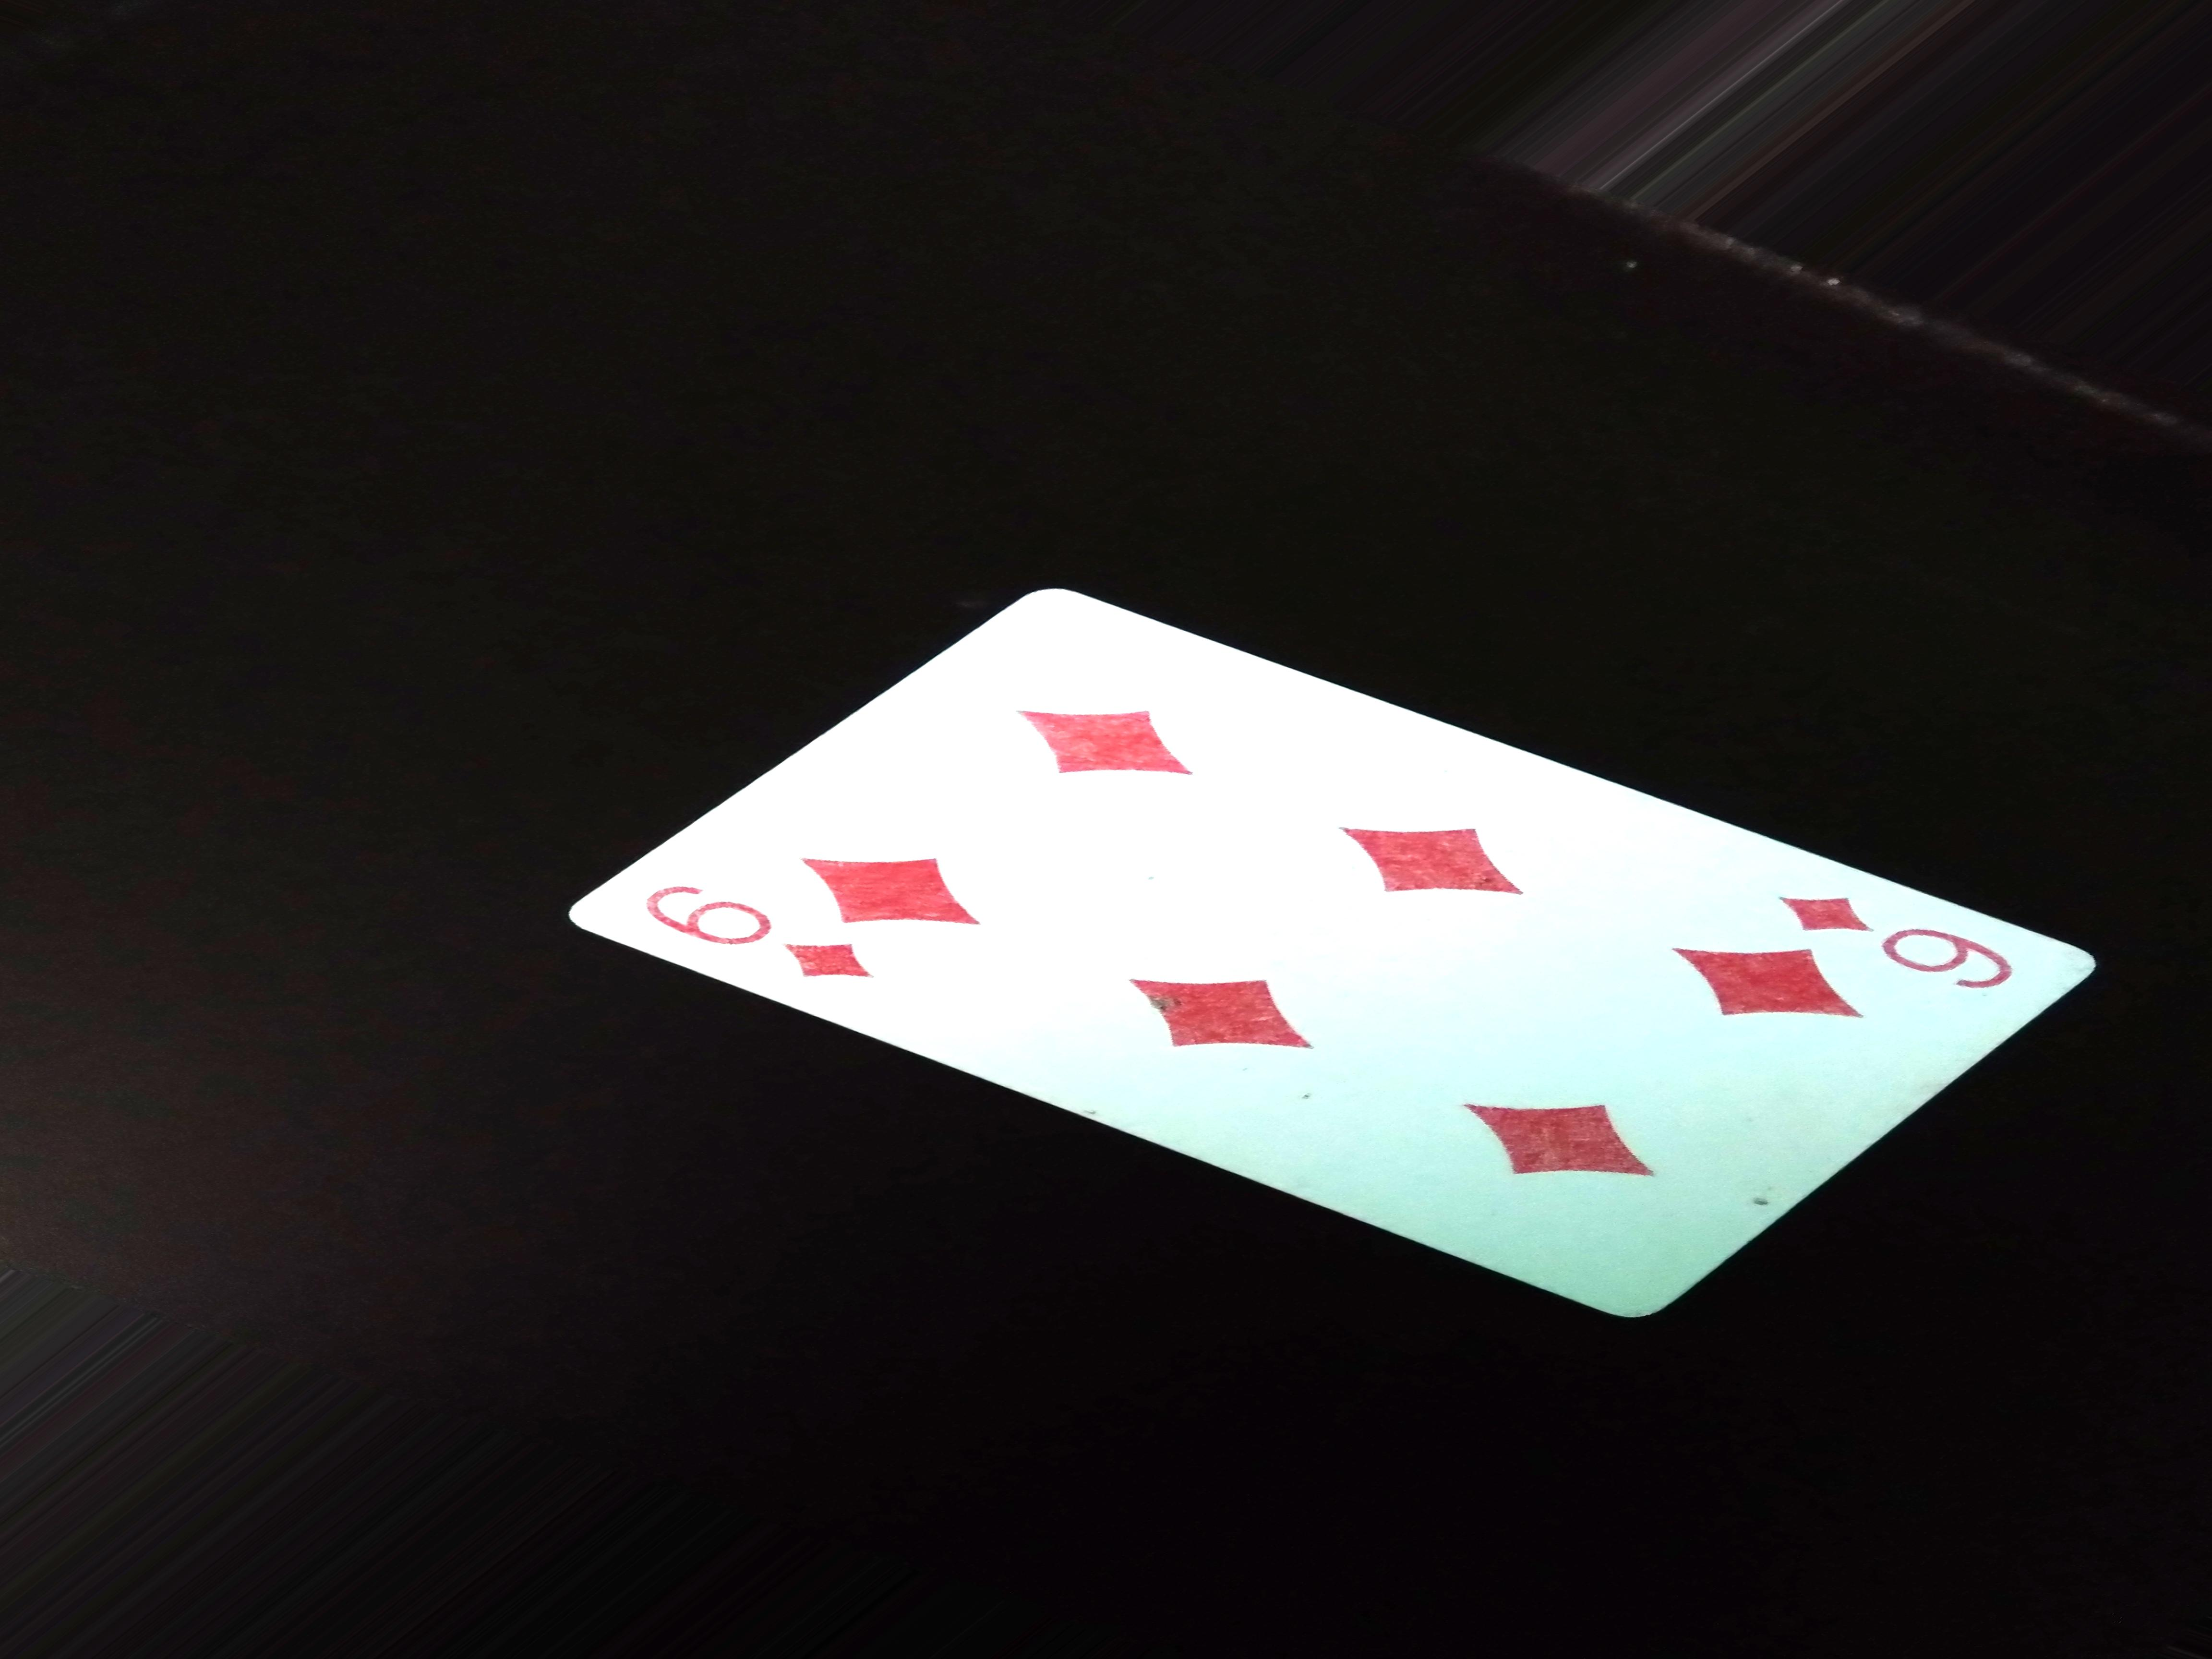6D: (643, 884, 881, 1023)
